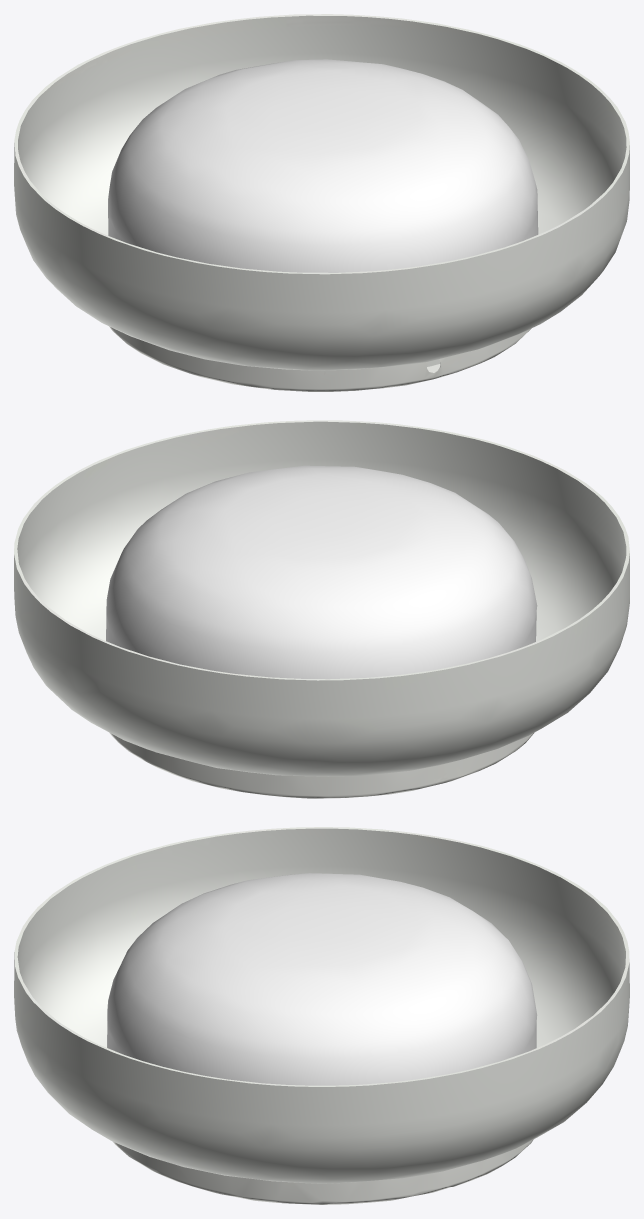
The model's file is karrnocka_lampa_sufitowa_50599402.glb.
3 views of the same model, one above another, from view 1: azimuth 30°, elevation 25°; view 2: azimuth 150°, elevation 25°; view 3: azimuth 270°, elevation 25° (orthographic).
Parts seen in each view (by area): view 1: karrnocka_lampa_sufitowa_50599402; view 2: karrnocka_lampa_sufitowa_50599402; view 3: karrnocka_lampa_sufitowa_50599402.
Part boxes in pixels (bbox=[...]): karrnocka_lampa_sufitowa_50599402: bbox=[14, 14, 629, 391]; karrnocka_lampa_sufitowa_50599402: bbox=[14, 420, 629, 798]; karrnocka_lampa_sufitowa_50599402: bbox=[14, 827, 629, 1204].
Size of the model in its own units: 0.3707 by 0.1286 by 0.371.
3 materials, 3 textured.
